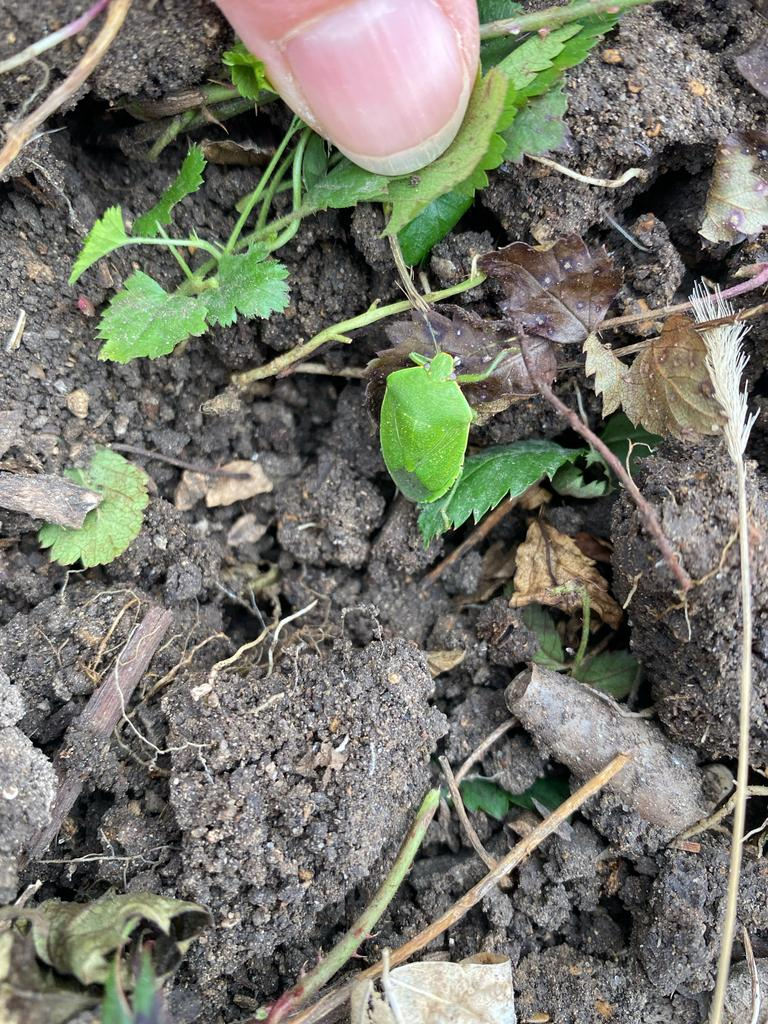stink_bugs: (335, 307, 527, 539)
